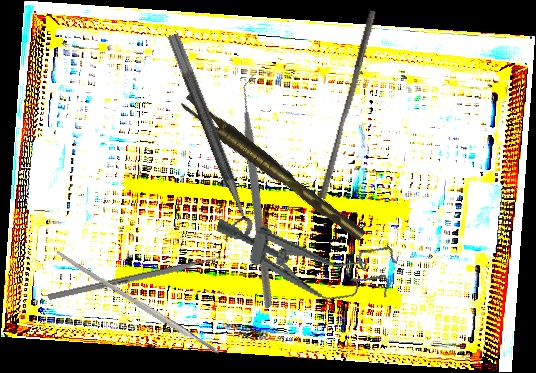Chopper: (147, 70, 378, 310)
Fixation Ring: (150, 32, 257, 245)
Pusher: (317, 8, 377, 201), (47, 251, 234, 302)
Scalpel Handle: (54, 249, 221, 357)
Speculum: (206, 204, 401, 315)
Tissue Forceps: (179, 88, 366, 250)
